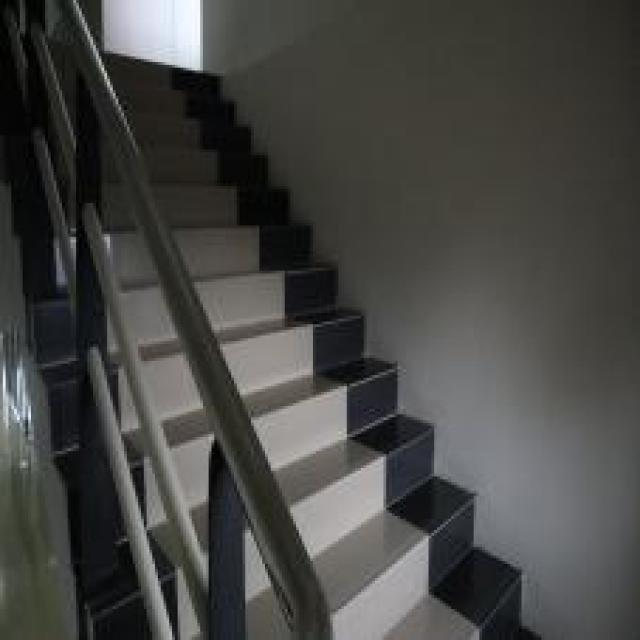upstair: (170, 184, 382, 475)
